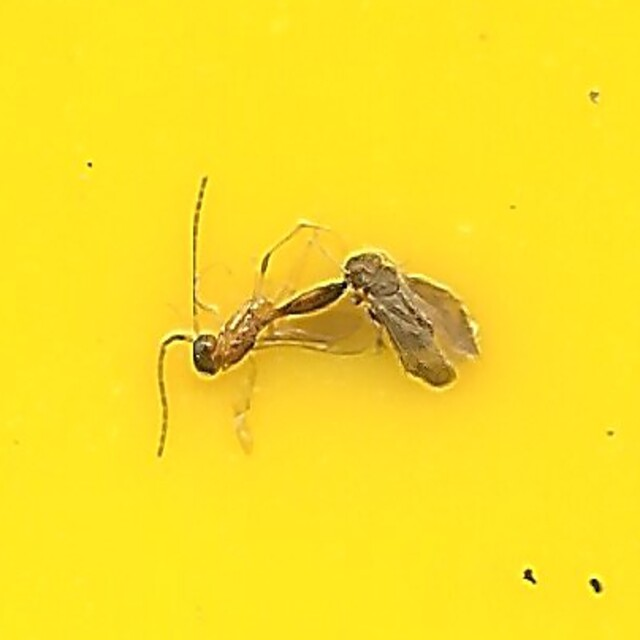Hemiptera: (341, 250, 482, 394)
Hymenoptera: (158, 185, 368, 455)
